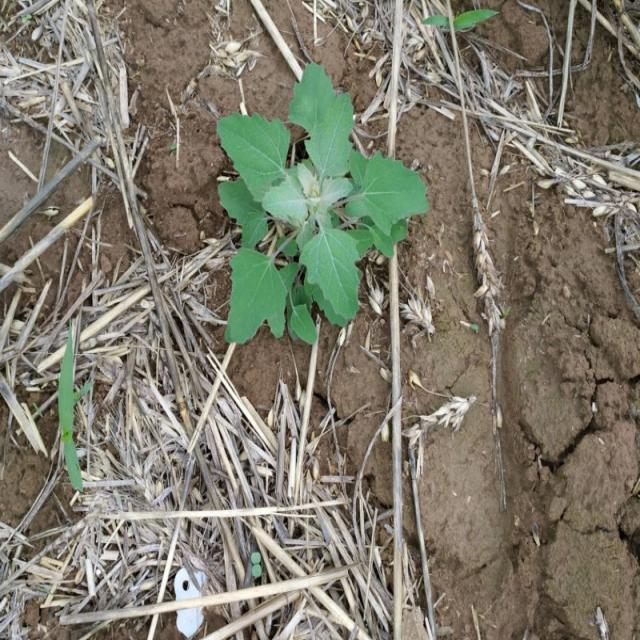goosefoots: (198, 59, 402, 357)
